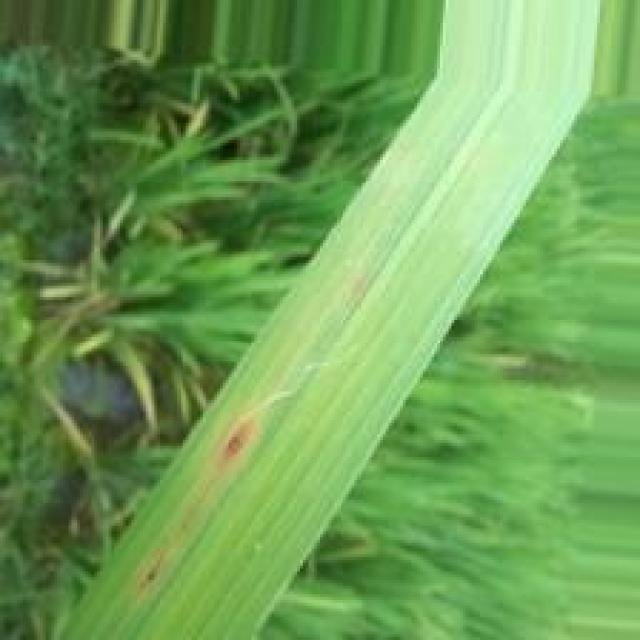Brown_Spot: (217, 429, 254, 459)
